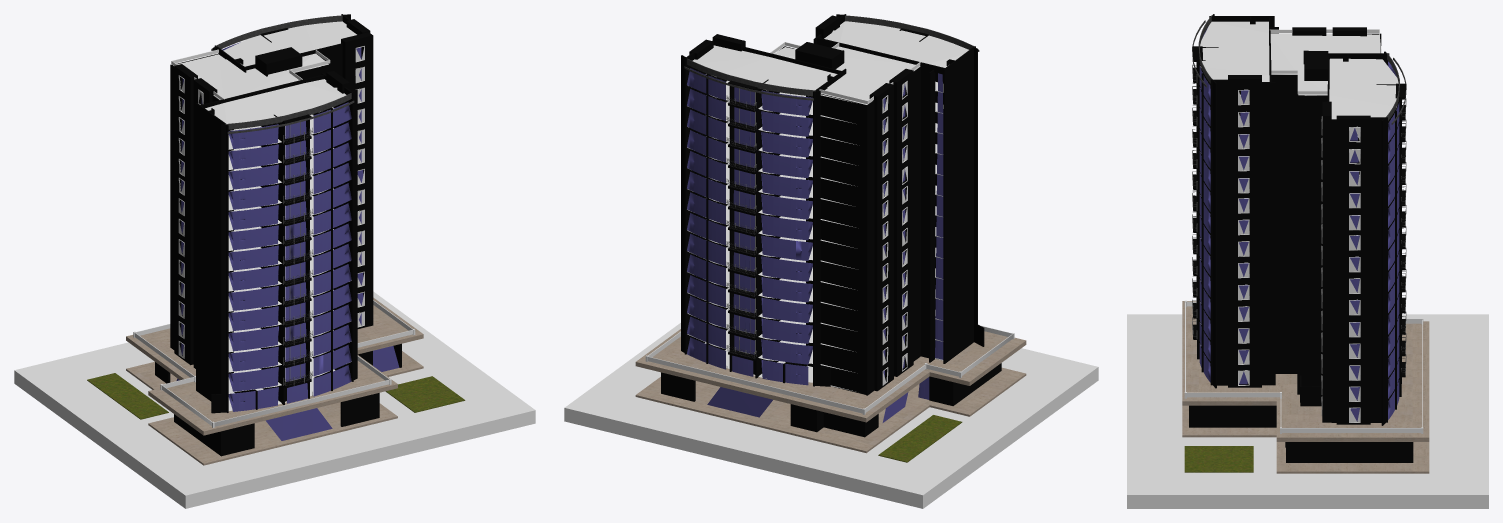
Rendered from blue_glass_tower.glb.
3 renders of one model, left to right at view 1: azimuth 30°, elevation 25°; view 2: azimuth 150°, elevation 25°; view 3: azimuth 270°, elevation 25°, orthographic. The views are drawn at different scales.
Parts seen in each view (by area): view 1: blue_glass_tower; view 2: blue_glass_tower; view 3: blue_glass_tower.
Part boxes in pixels (x1,y1,x2,y2): blue_glass_tower: (14, 14, 535, 508); blue_glass_tower: (564, 14, 1098, 508); blue_glass_tower: (1127, 14, 1488, 508).
Size of the model in its own units: 59.91 by 56.11 by 50.76.
Materials: 11 (5 with a texture image).
